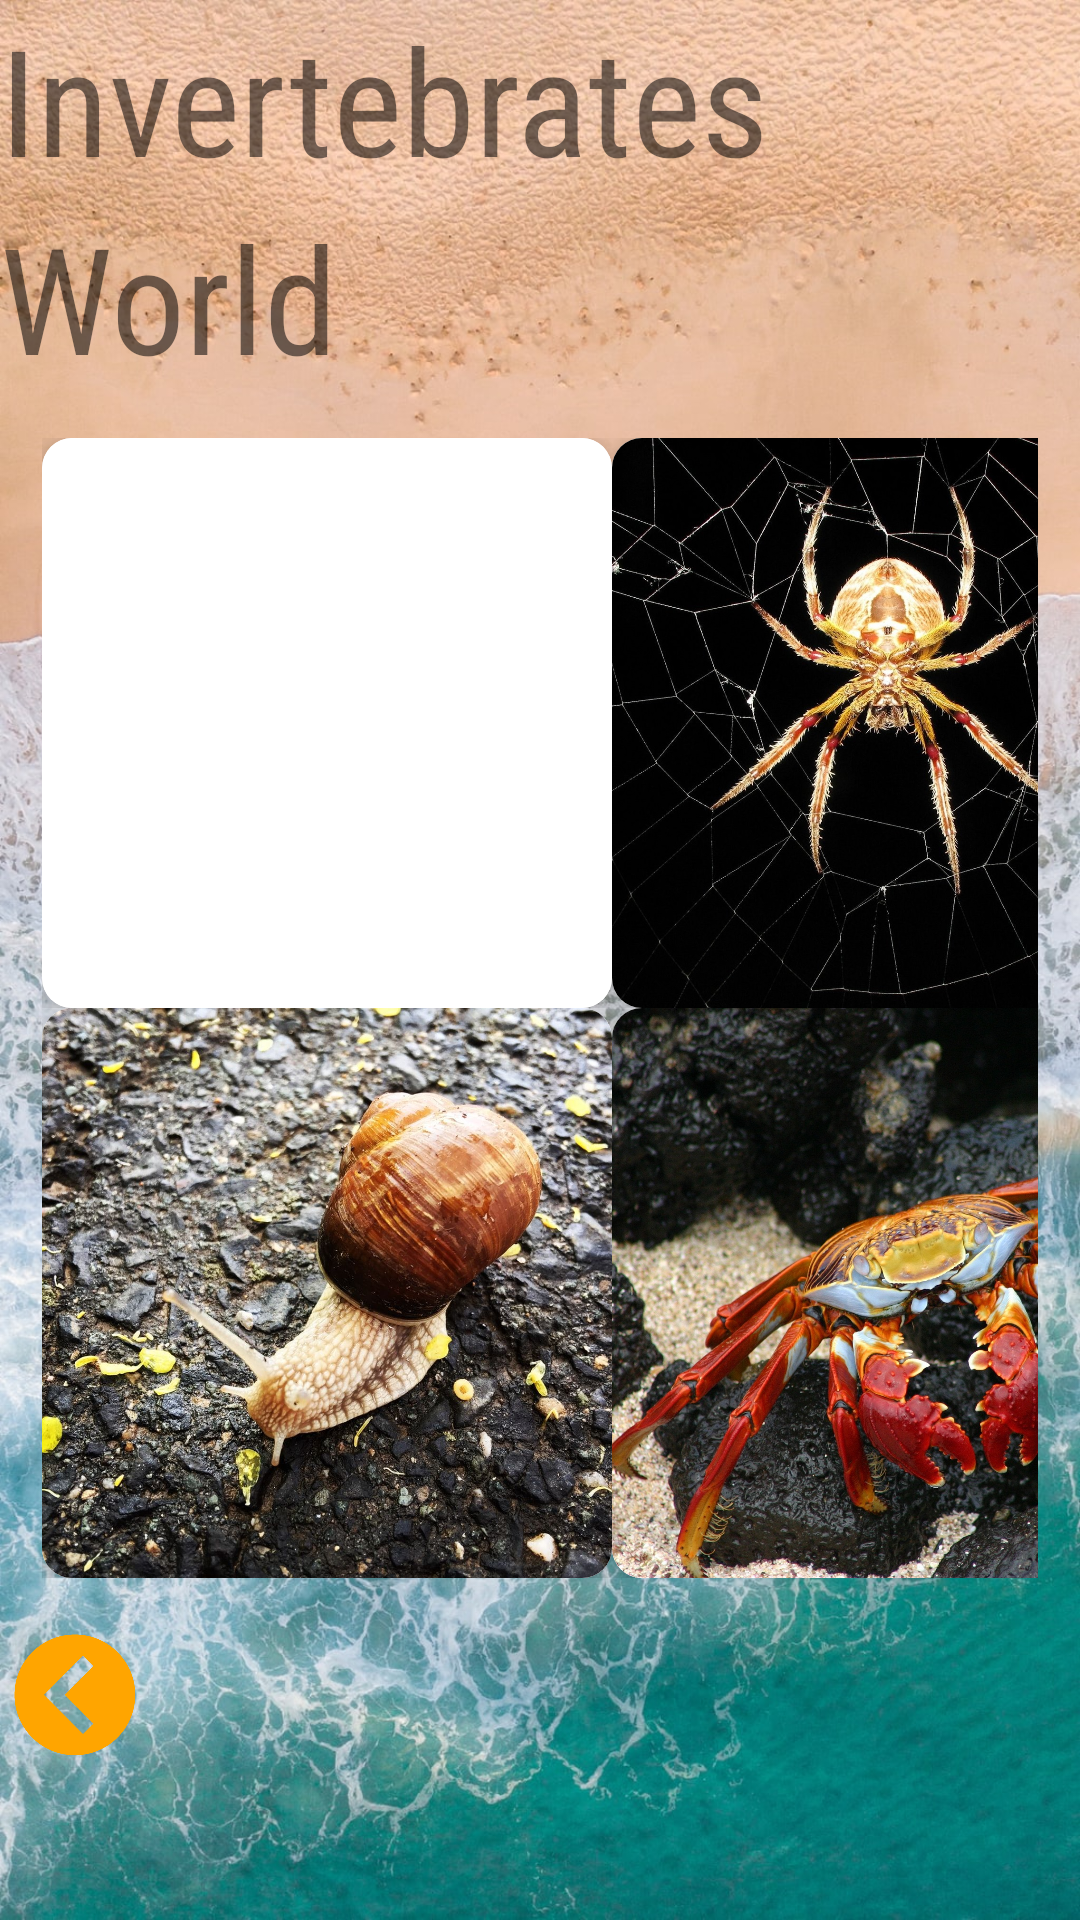

Named icons in this screenshot (1080 × 1920) and their centers, (x,y):
prev: (75,1695)
